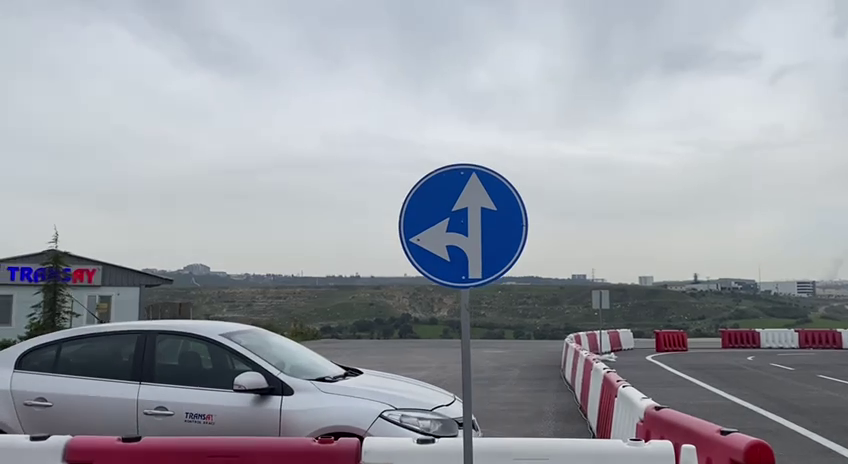forwardAndLeft: (397, 161, 532, 291)
